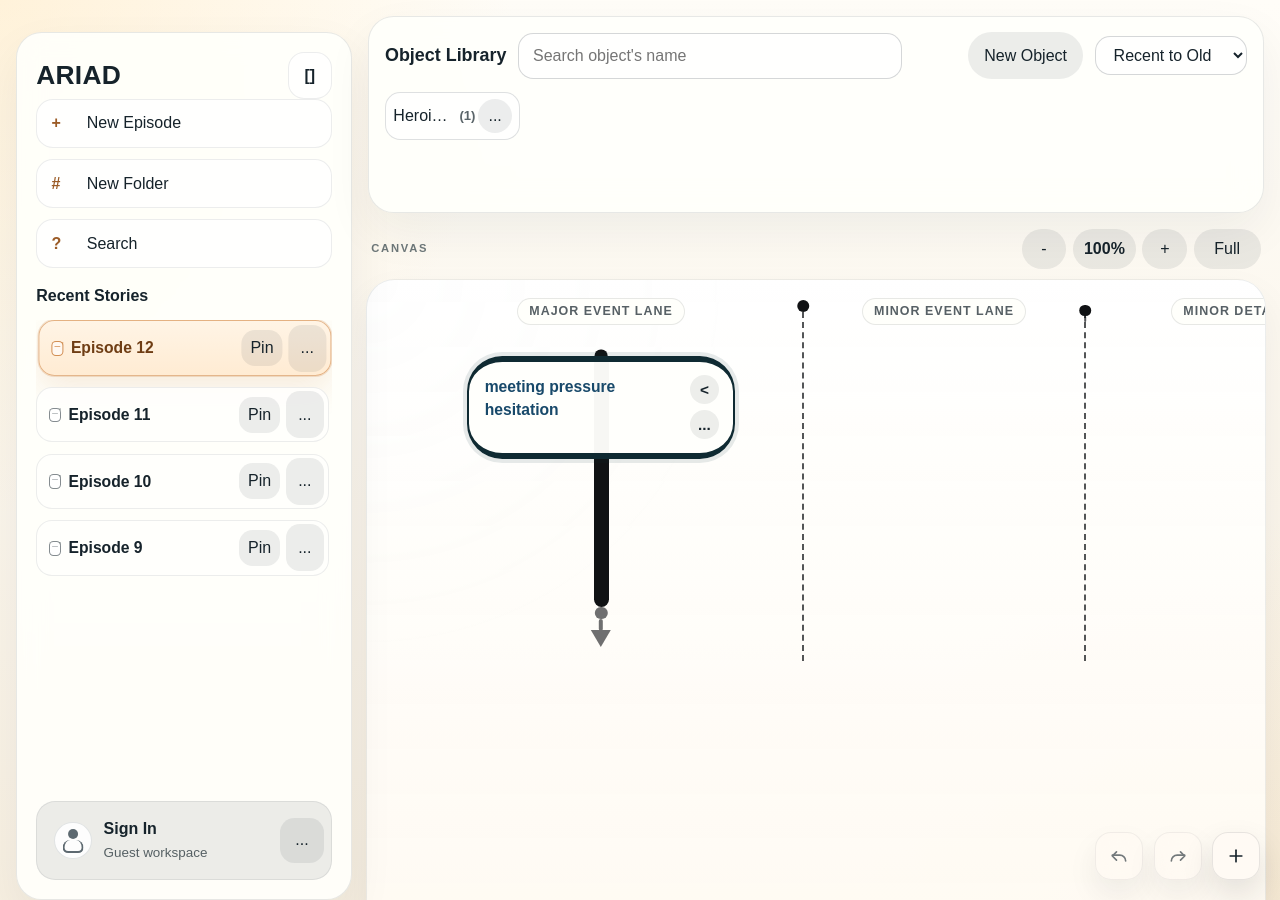
Test: workspace shell recommendation flow › applies selected keywords directly into the node and persists them
Click the button named "Create Node" at (1236, 856), box [1212,832,1260,880]
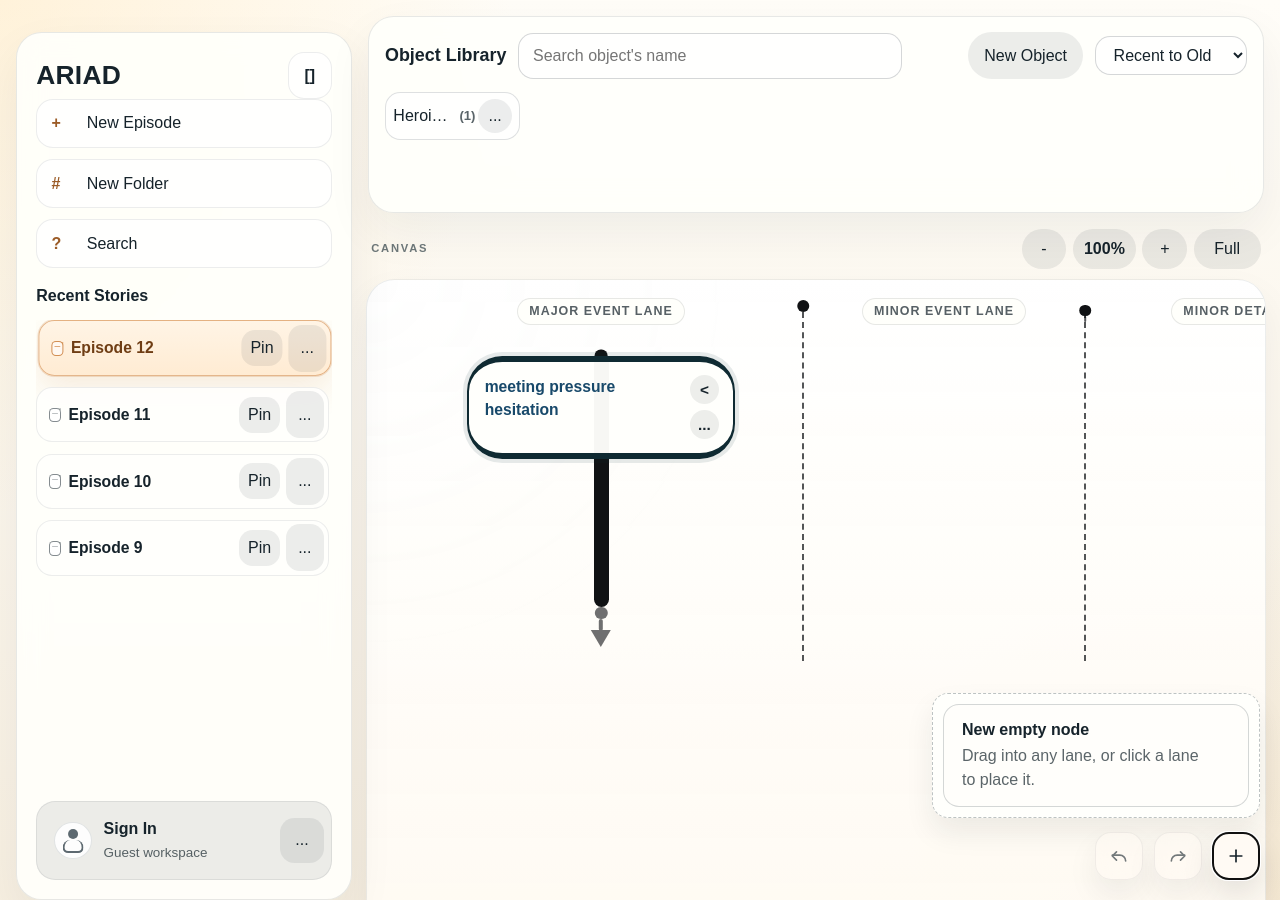
Click the element with test id "lane-major" at (601, 500), box [586,349,616,651]
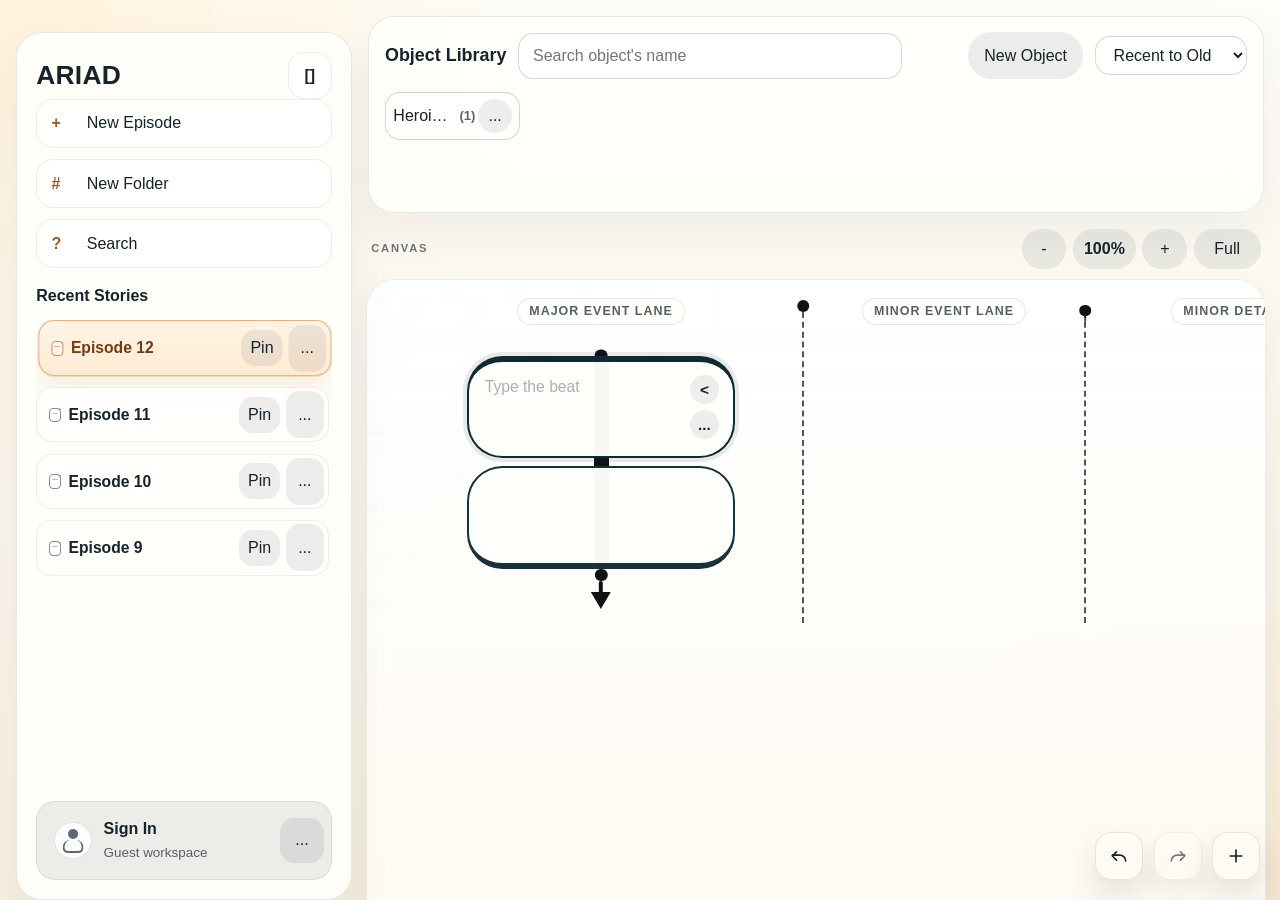
Click the button named "More" at (704, 424), box [690,410,719,439]
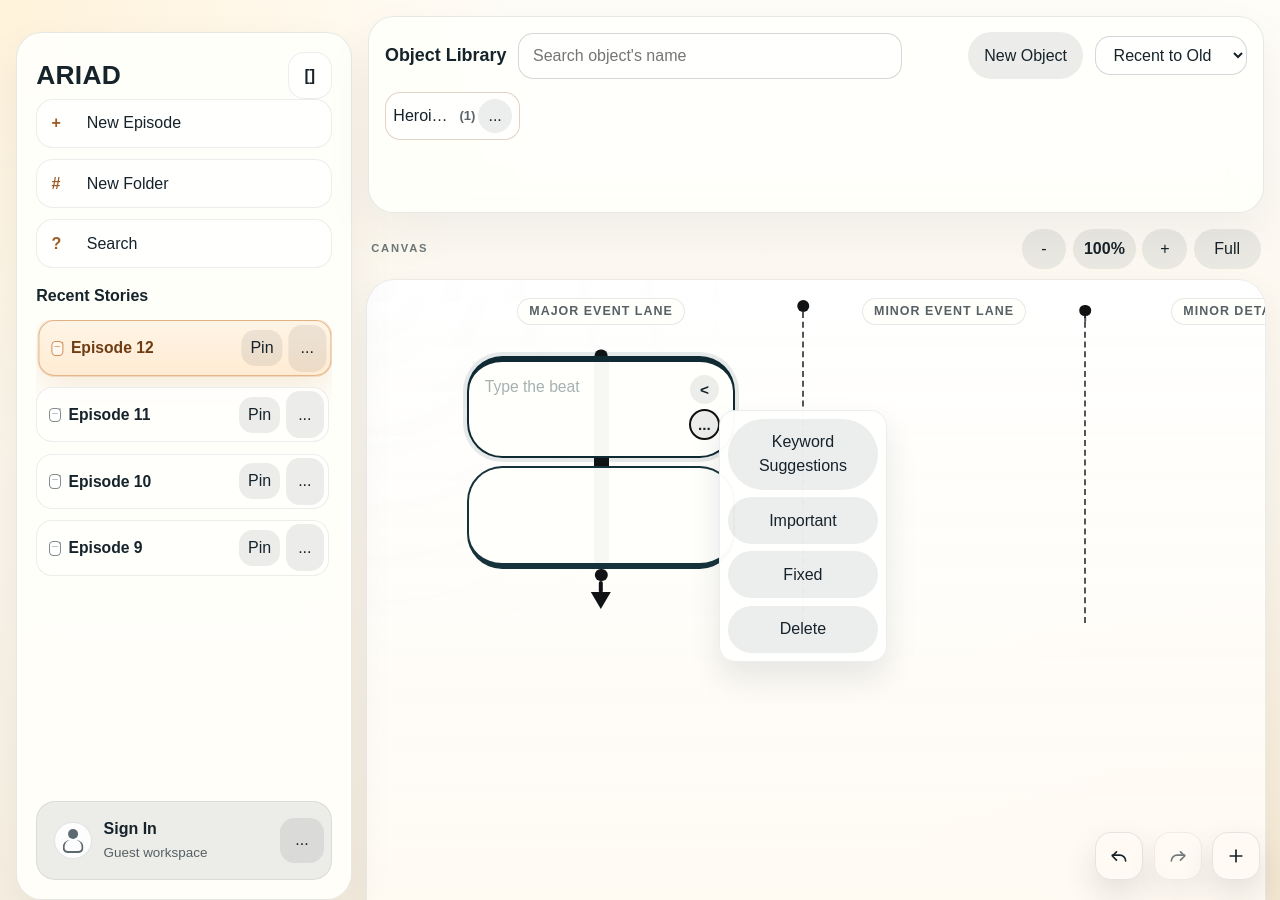
Click the button "Keyword Suggestions" at (803, 454), box [728,419,878,490]
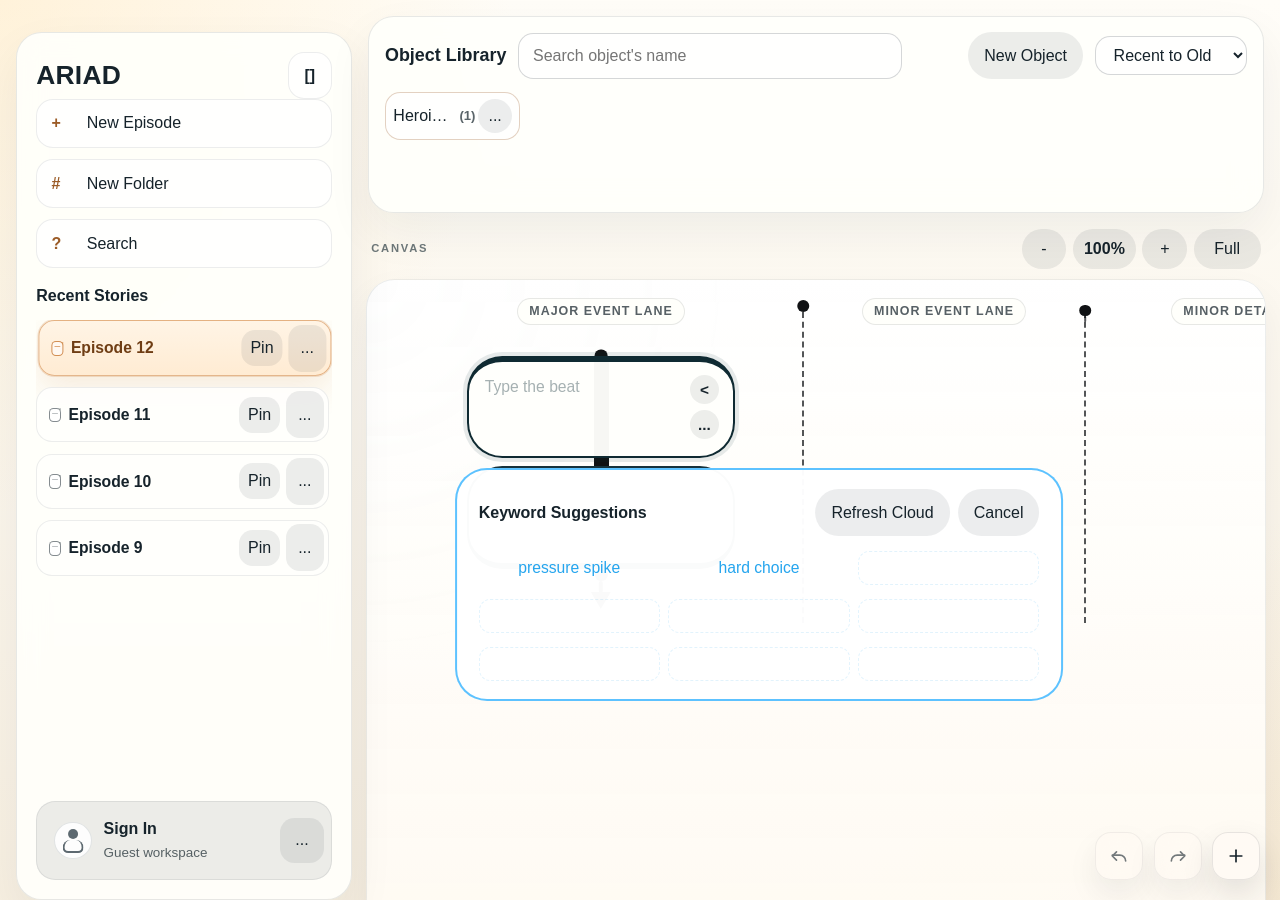
Expected: the element with test id "keyword-cloud" is shown, [455,468,1063,701]
Click the button "pressure spike" at (569, 568), box [479,551,660,585]
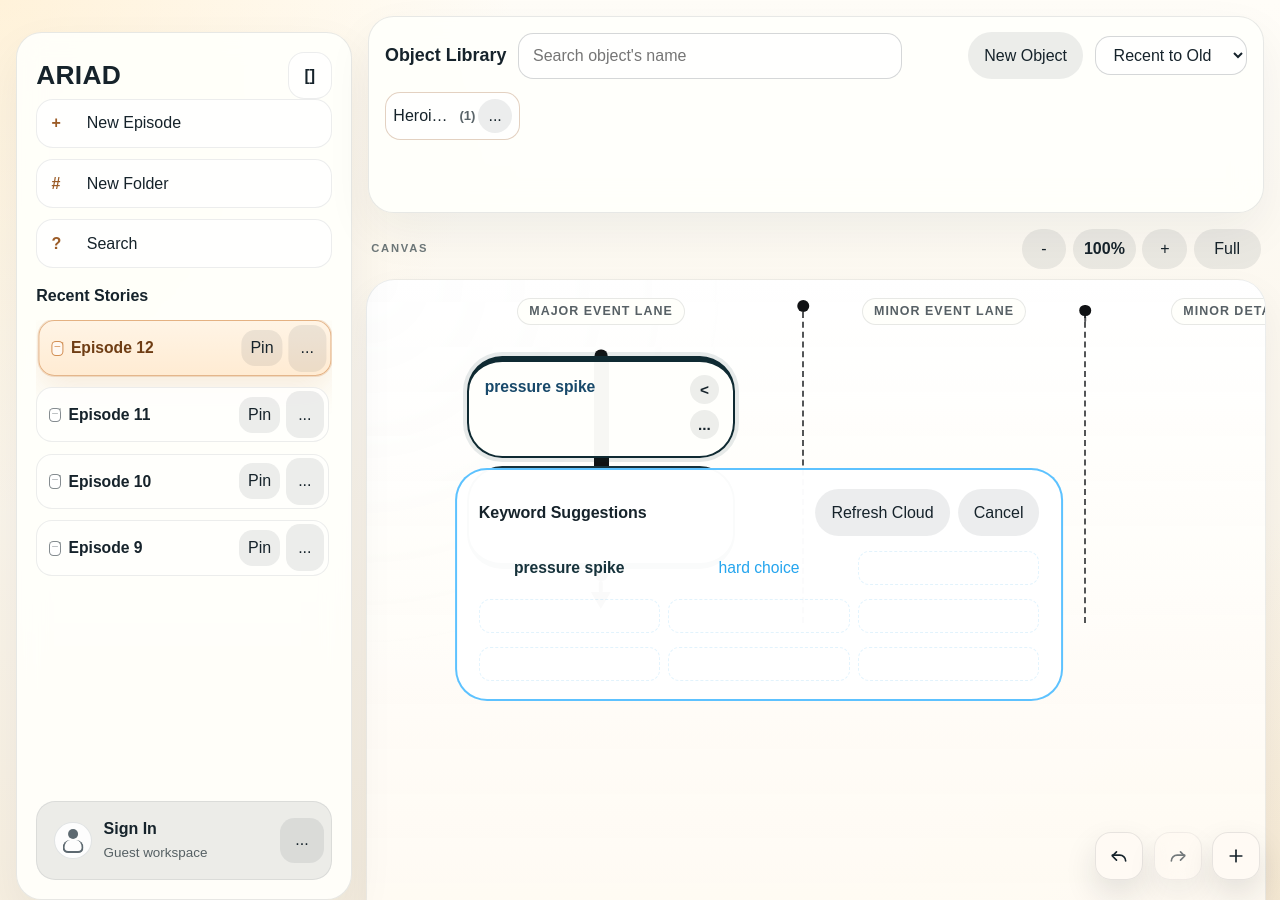
Expected: the 1st text "pressure spike" is shown, [485,378,595,395]
Expected: the text with placeholder "Type the beat" is gone
Press Backspace
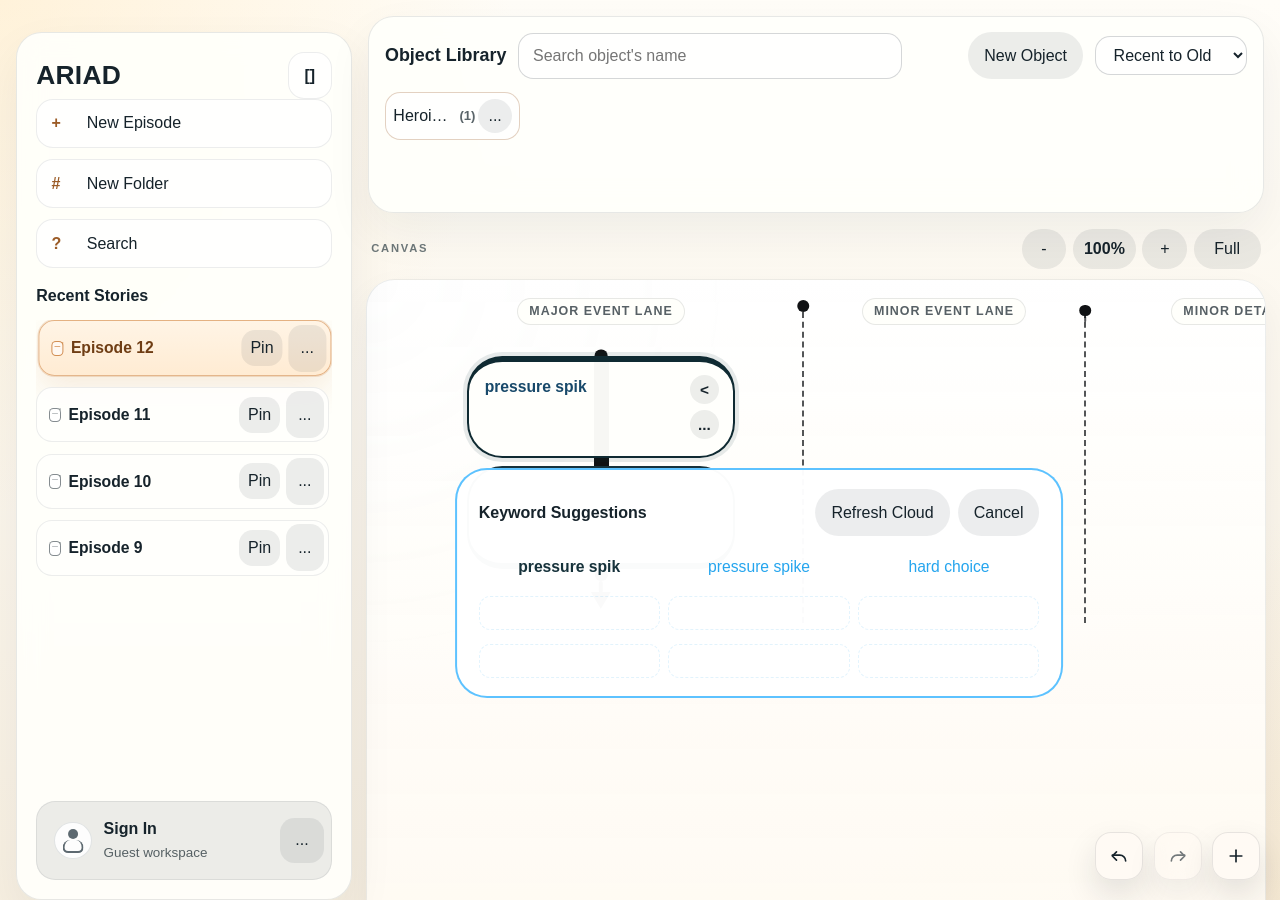
Expected: the 1st text "pressure spik" is shown, [485,378,587,395]
Expected: the button with test id "keyword-suggestion-0" reads "pressure spik", [479,551,660,581]
